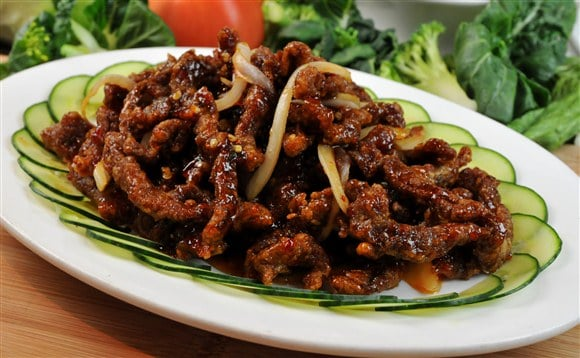curry: (0, 2, 177, 80)
